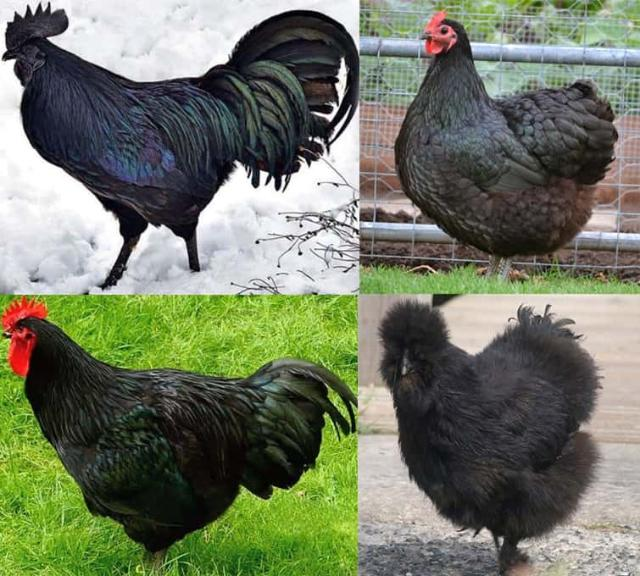Chicken: (0, 0, 358, 291), (0, 295, 355, 574), (379, 300, 600, 576), (397, 8, 617, 283)
